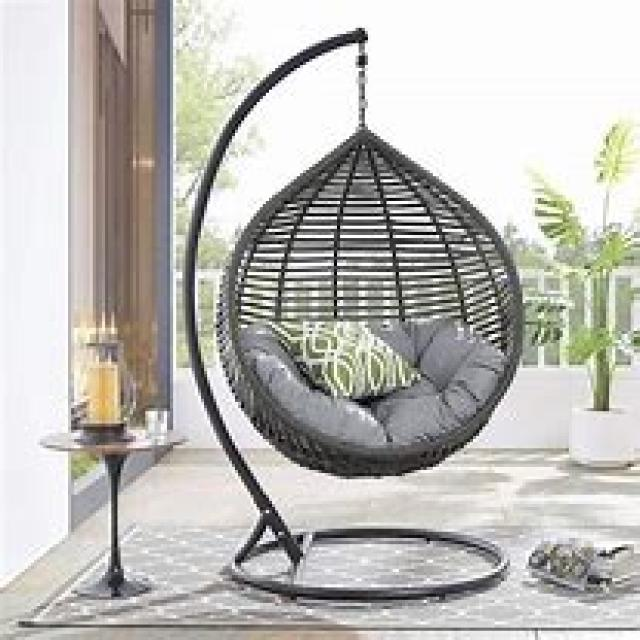chair: (182, 25, 522, 600)
